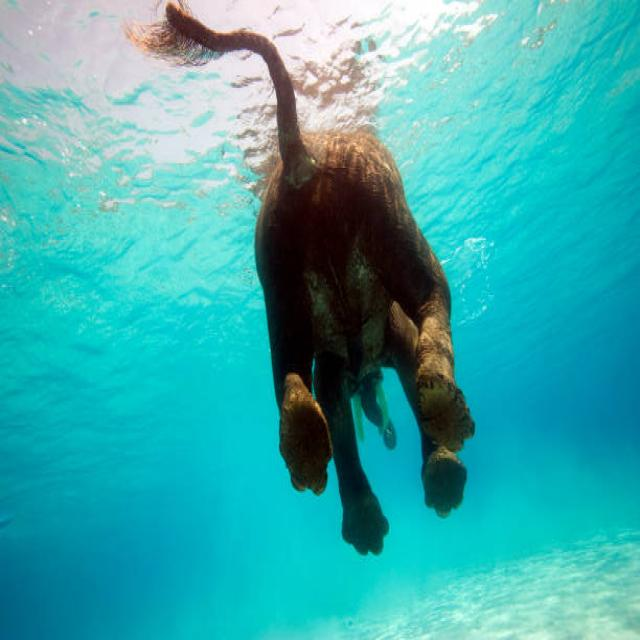Elephant: (144, 0, 476, 555)
